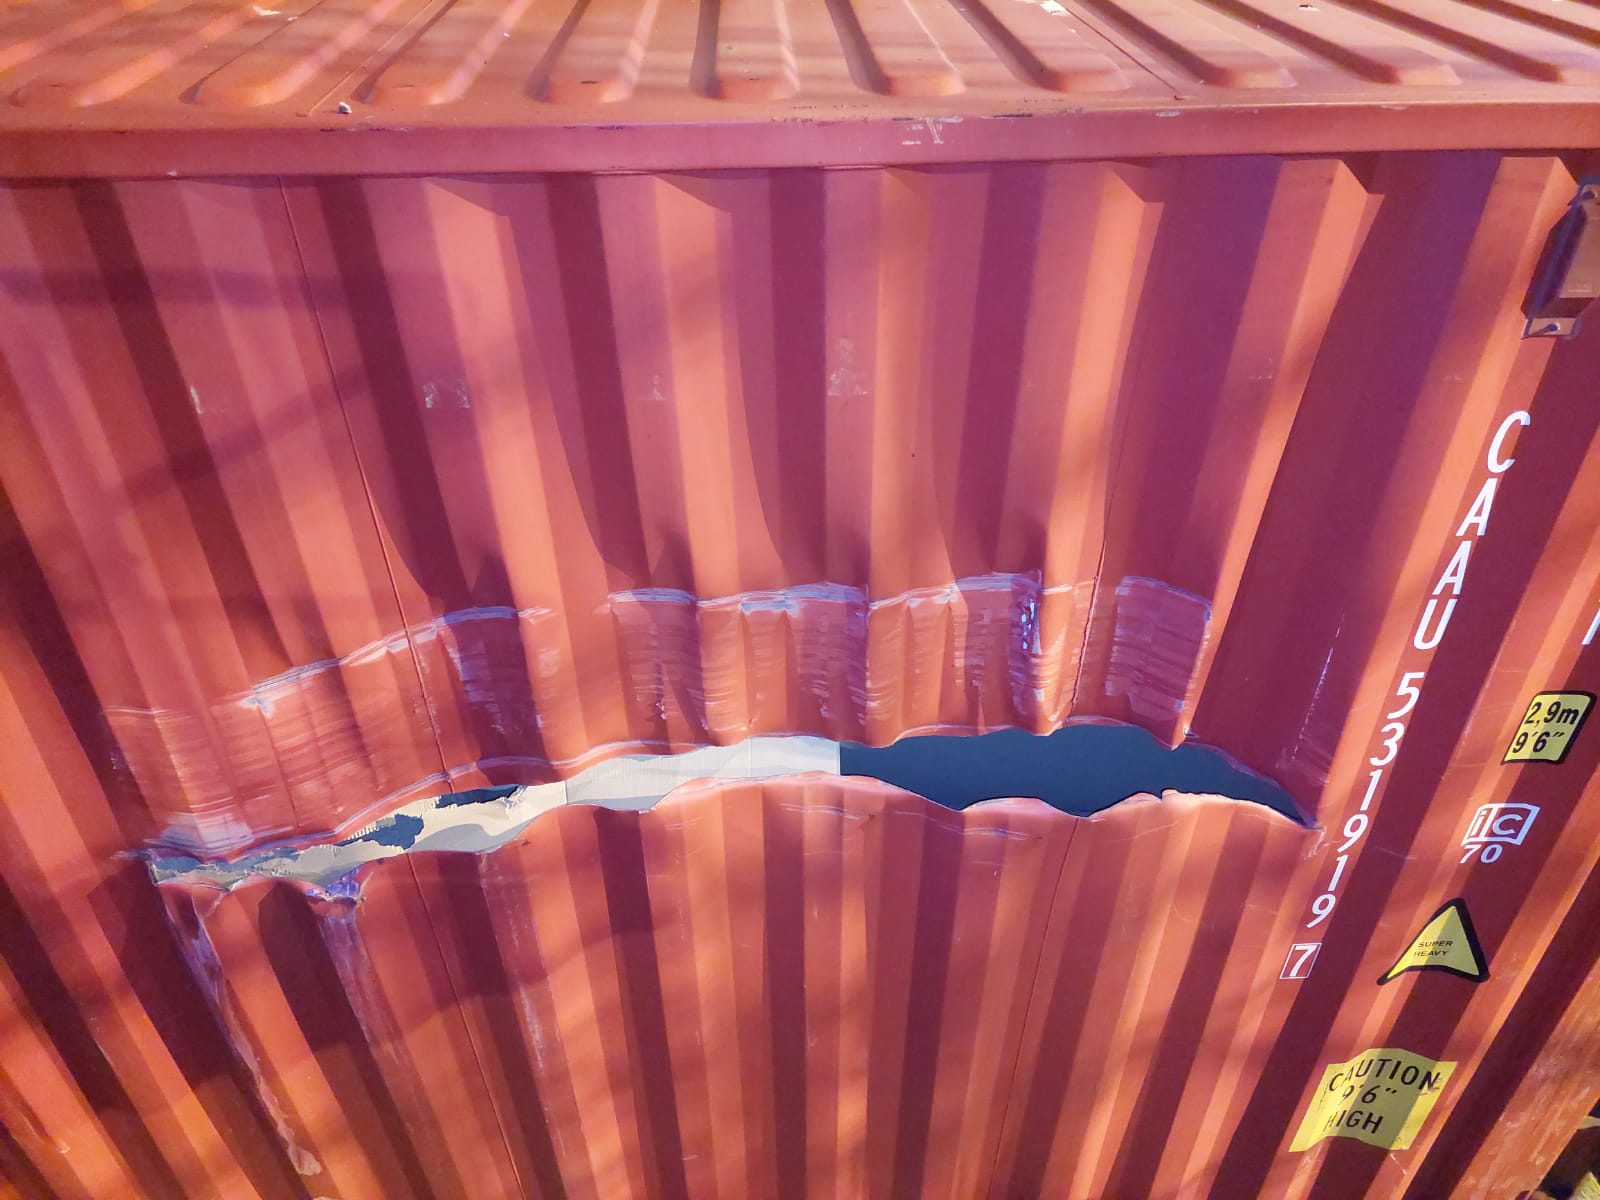severe: (118, 713, 1347, 900)
